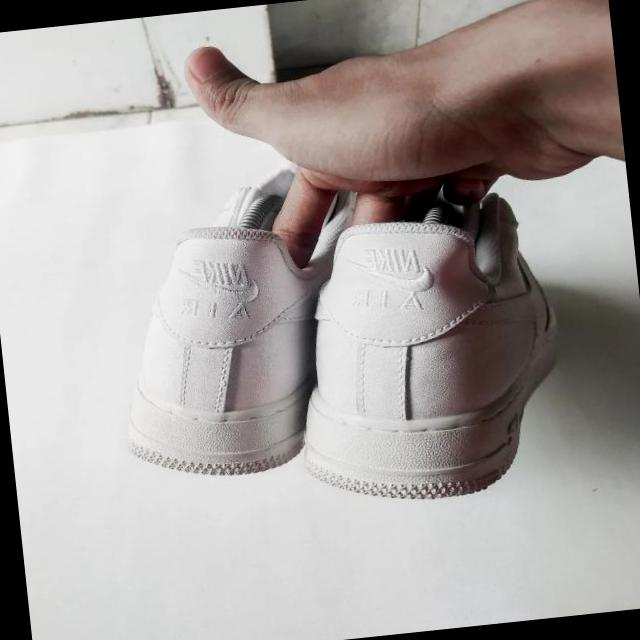nike_fake_airforce: (269, 172, 574, 516), (100, 167, 362, 493)
